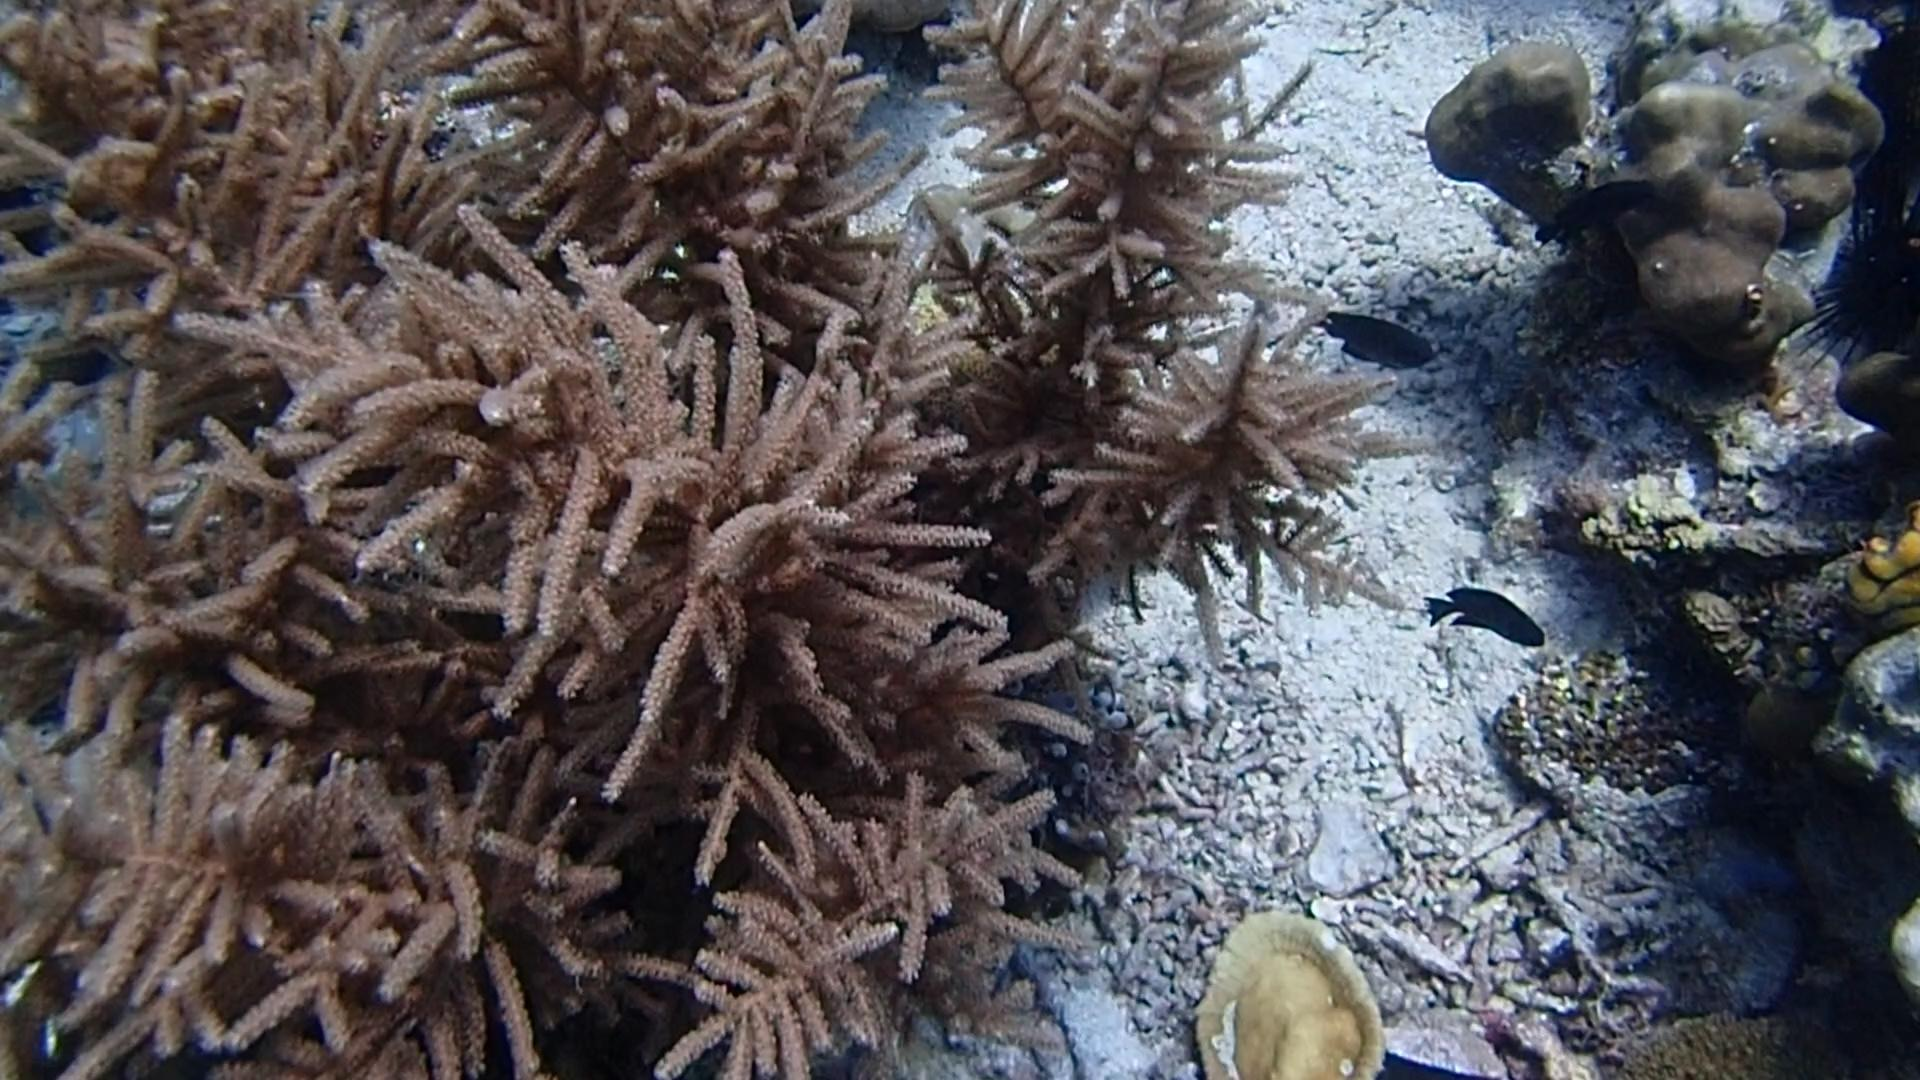Dark Fish: (1419, 575, 1549, 662), (1532, 166, 1659, 255), (1305, 301, 1440, 378)
